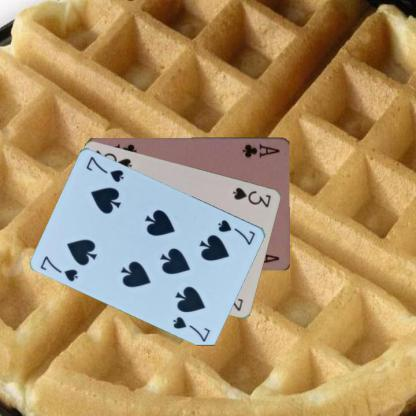3s: (230, 184, 273, 209)
7s: (38, 253, 80, 283), (215, 217, 257, 246)
Ac: (240, 140, 282, 158)
